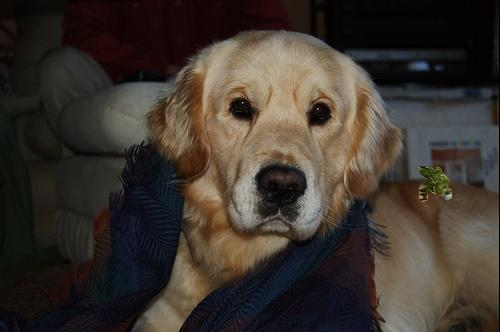tampered: (419, 167, 452, 202)
